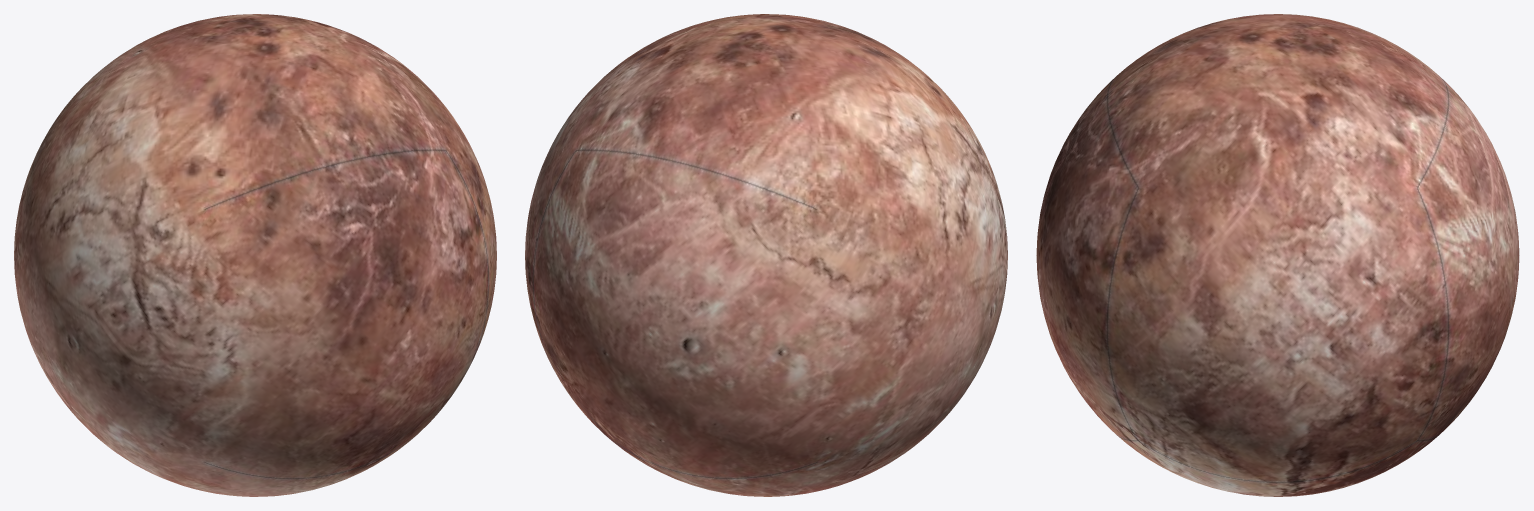
File: planet_of_phoenix.glb
The picture shows the model from 3 angles, left to right: view 1: azimuth 30°, elevation 25°; view 2: azimuth 150°, elevation 25°; view 3: azimuth 270°, elevation 25°; orthographic projection.
Parts seen in each view (by area): view 1: Phoenix_LOD0__0; view 2: Phoenix_LOD0__0; view 3: Phoenix_LOD0__0.
Boxes of the visible parts, x1,y1,x2,y2 form: Phoenix_LOD0__0: [14, 14, 496, 496]; Phoenix_LOD0__0: [525, 14, 1007, 496]; Phoenix_LOD0__0: [1036, 14, 1519, 496].
Size of the model in its own units: 3.41 by 3.41 by 3.41.
1 material, 1 textured.
